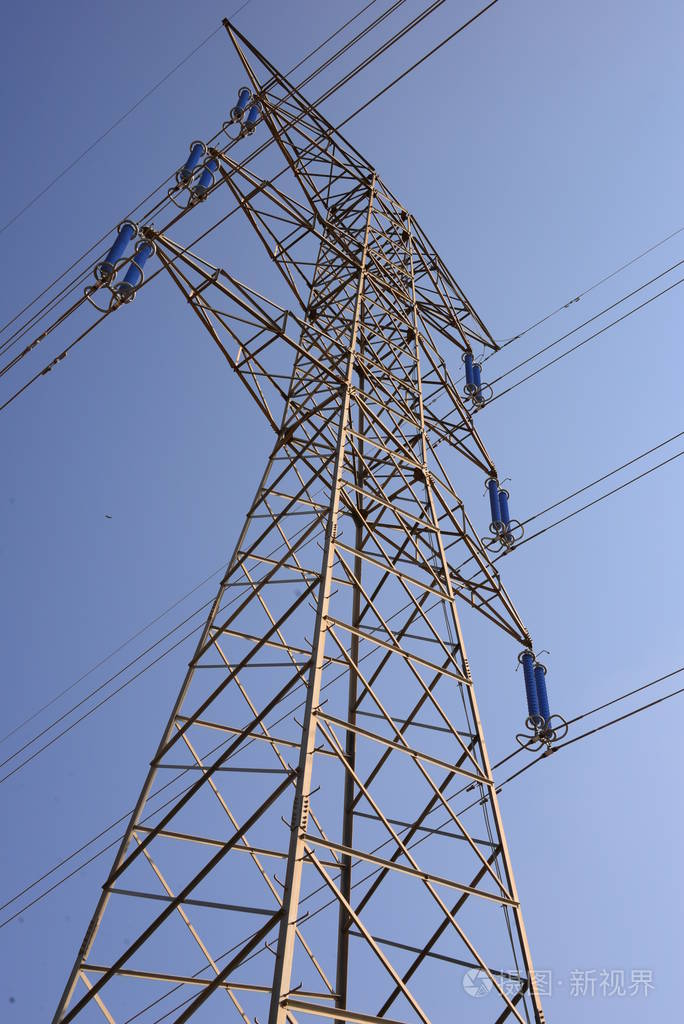insulator: (99, 224, 151, 288), (519, 651, 552, 725), (181, 145, 219, 182), (486, 478, 511, 530), (228, 91, 263, 120), (463, 350, 487, 391)
